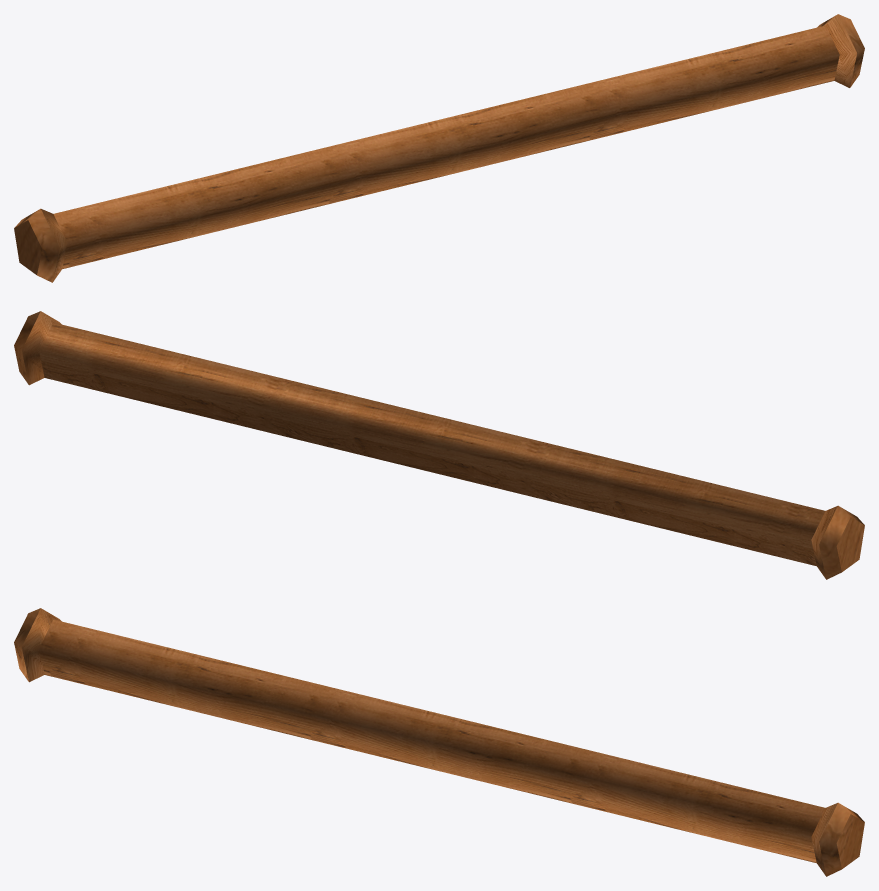
File: M_Home_Garden_CurtainStick.fbx
3 views of the same model, one above another, from view 1: azimuth 30°, elevation 25°; view 2: azimuth 150°, elevation 25°; view 3: azimuth 330°, elevation 25° (orthographic).
Parts seen in each view (by area): view 1: M_Home_Garden_CurtainStick; view 2: M_Home_Garden_CurtainStick; view 3: M_Home_Garden_CurtainStick.
Part boxes in pixels (<box>): M_Home_Garden_CurtainStick: <box>14,14,864,282</box>; M_Home_Garden_CurtainStick: <box>14,311,864,579</box>; M_Home_Garden_CurtainStick: <box>14,608,864,876</box>.
Bounding box in the file's own units: 201 × 15.34 × 16.12.
